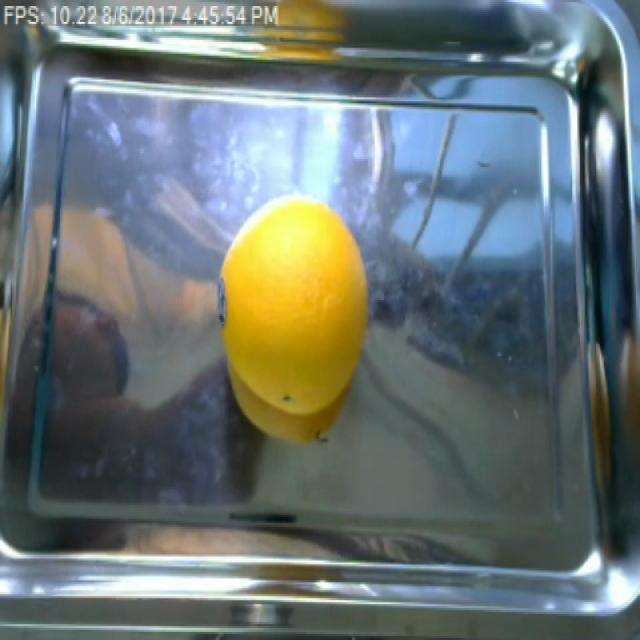Fruit: (215, 193, 373, 447), (267, 0, 356, 32)
